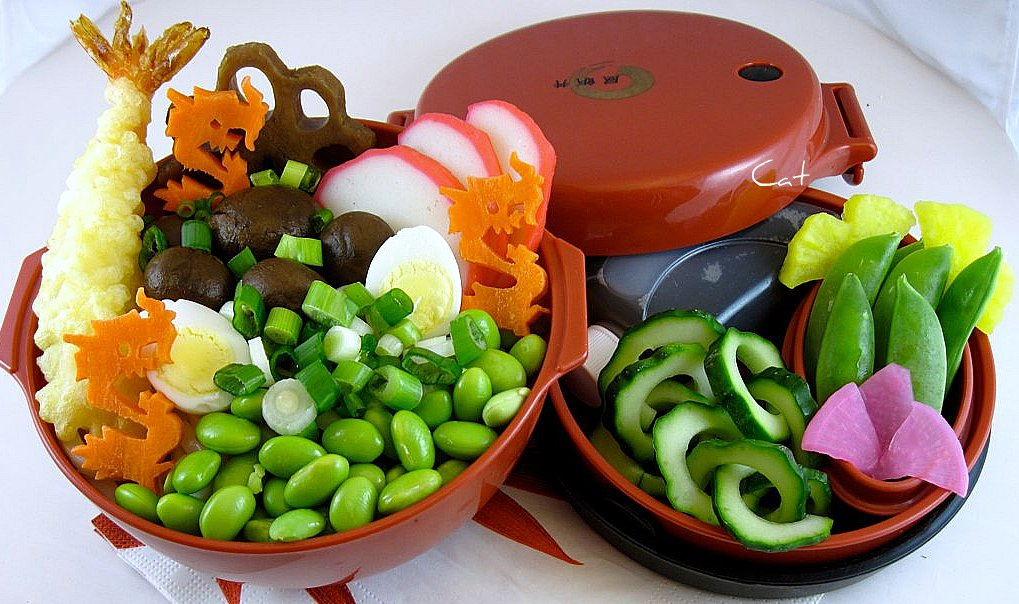boiled peas: (182, 342, 528, 533)
